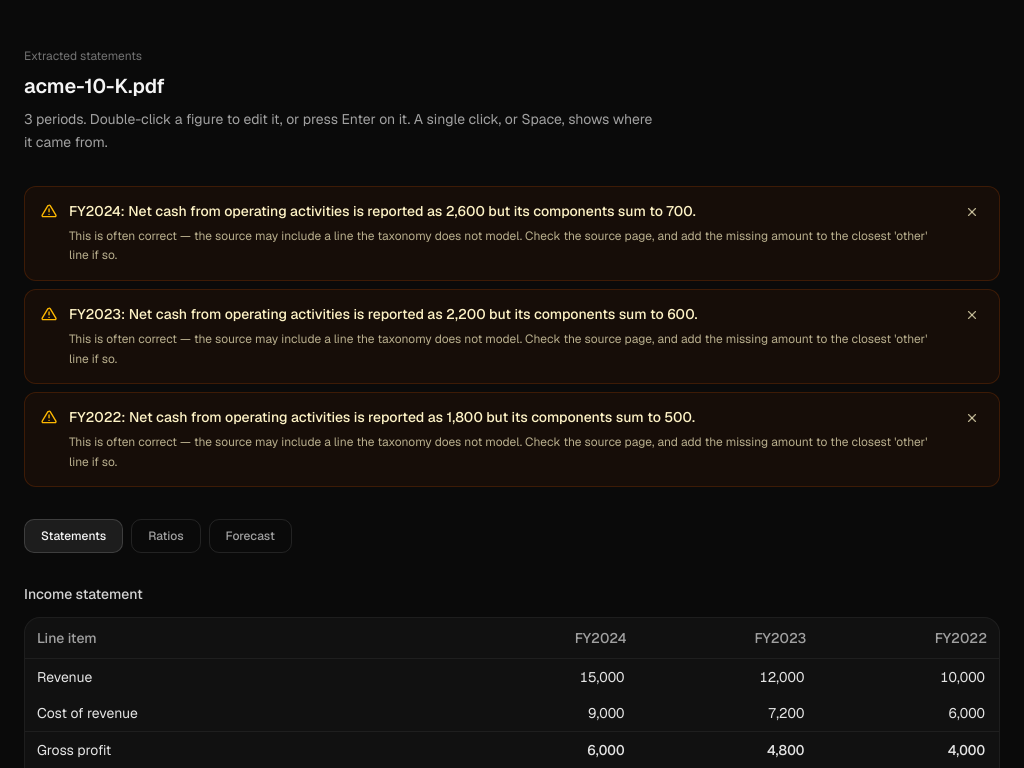
Scenario: ratios over the forecast › says the generated reading excludes forecast periods
Click the tab "Ratios" at [166, 536], box 131,519 -> 201,553
(page scrolled)
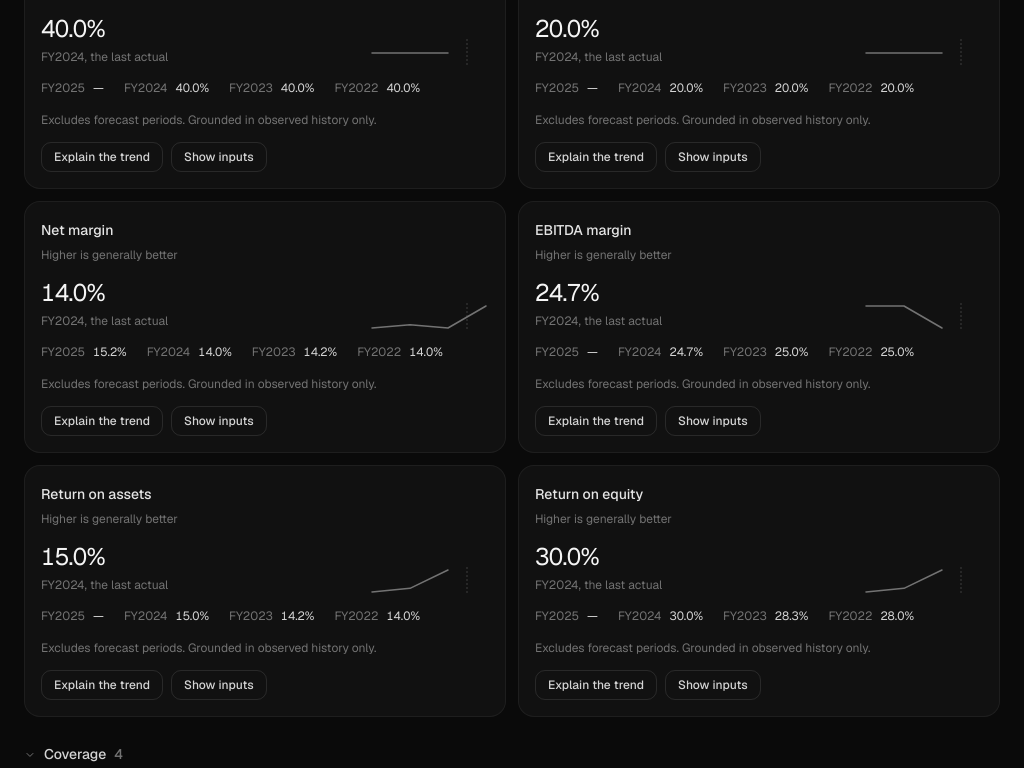
Expected: the text "Excludes forecast periods" below "15.2%" is shown, 41,376 -> 376,392
